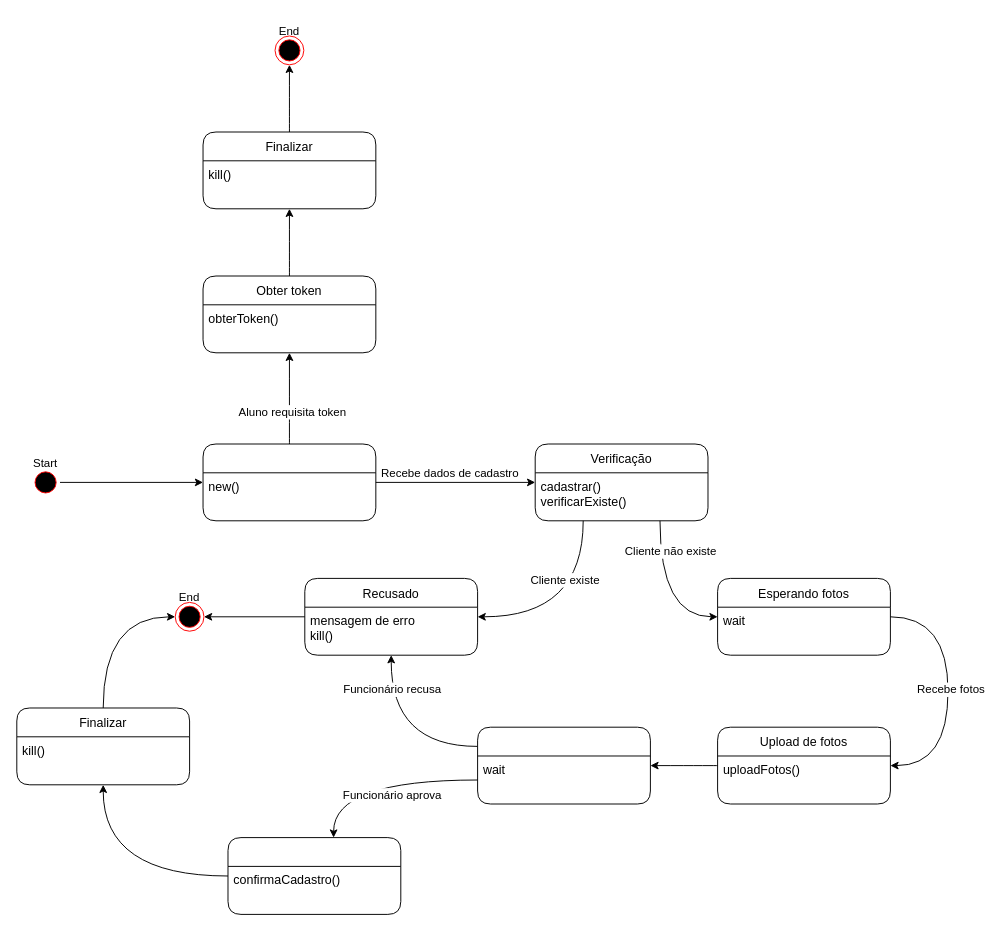
The diagram is 1001 pixels wide and 933 high, and some of its shapes have lost their labels. The box of each missing label's shape, as (x1, y1, x2, y2) in pixels:
Aguardando aprovação: (477, 726, 650, 804)
Cadastrando: (227, 837, 401, 914)
Instanciar Cliente: (202, 443, 376, 521)
